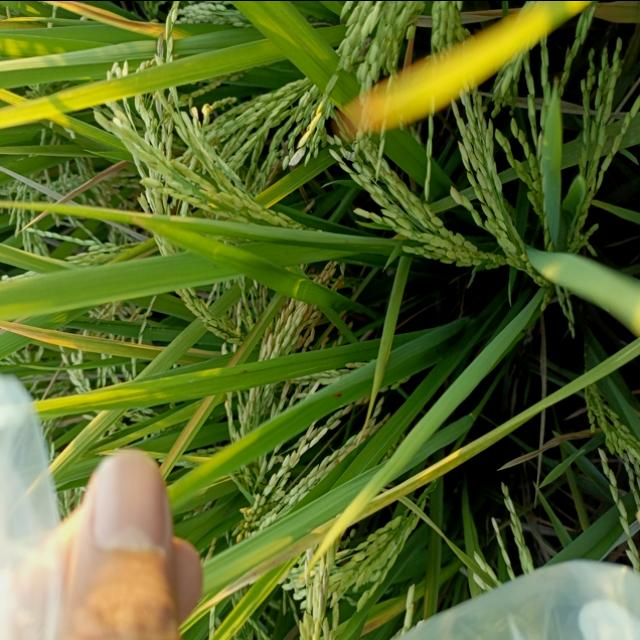Hawar Daun Bakteri: (1, 0, 186, 46)
brown spot: (238, 367, 252, 374)
